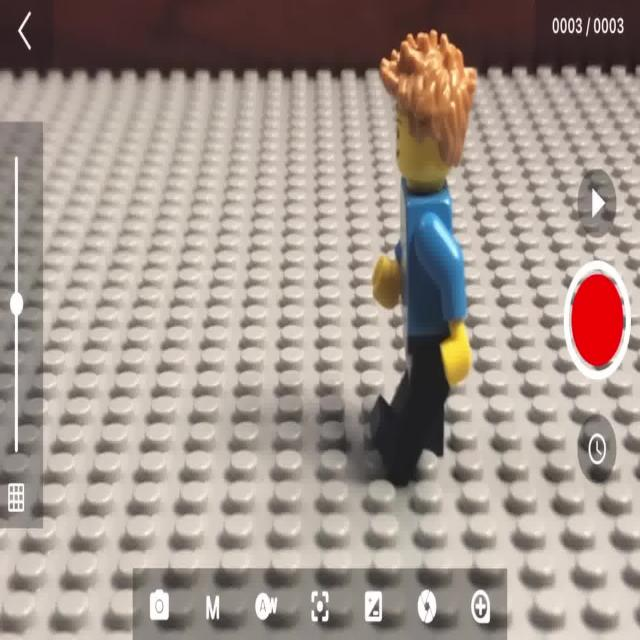4: (414, 203, 469, 382), (372, 249, 406, 312)
hand: (373, 31, 476, 485)
